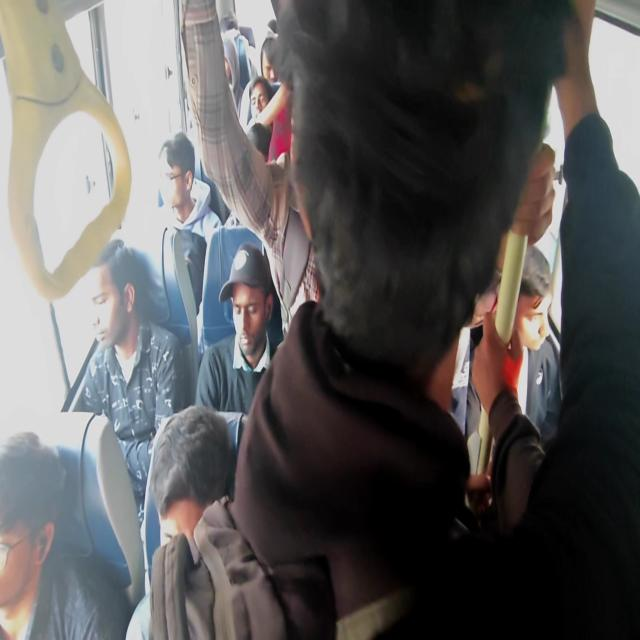person: (293, 11, 543, 374), (154, 420, 246, 596), (0, 364, 49, 596), (70, 215, 146, 356), (218, 252, 292, 369), (508, 250, 558, 360), (155, 139, 192, 211), (205, 41, 238, 107), (260, 35, 282, 94), (250, 80, 272, 124), (221, 8, 238, 34)
